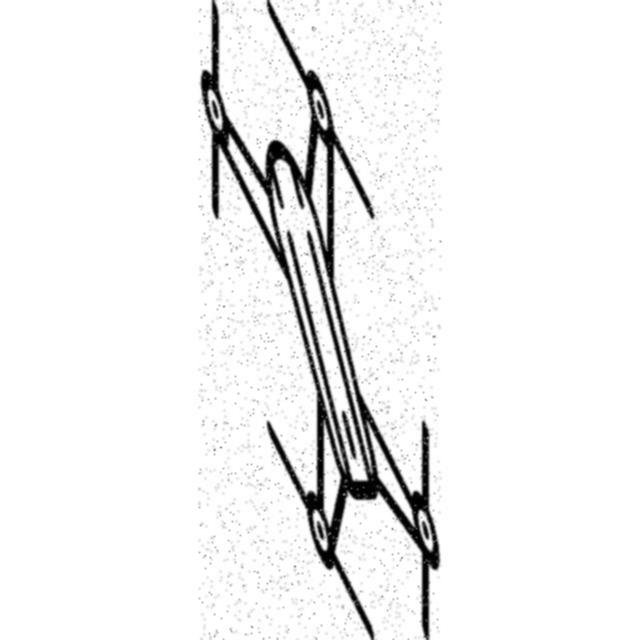drone: (200, 1, 442, 640)
